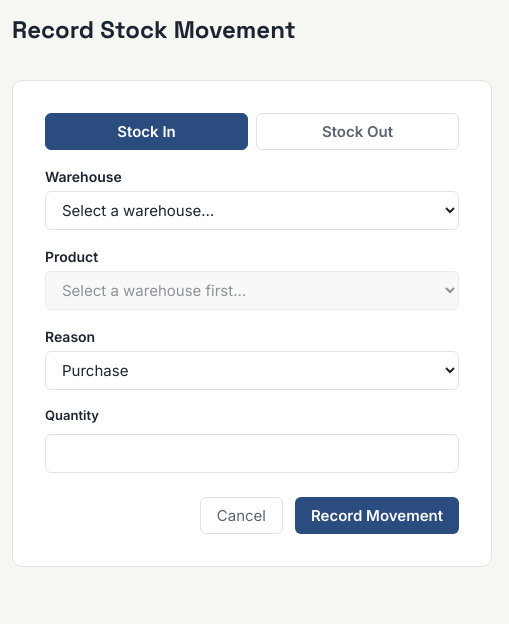
Test case: TransactionForm › shows the current stock hint once a product is selected
Expected: the heading "Record Stock Movement" is shown, [12,14,296,45]
Select "Main Warehouse" in the dropdown labelled "Warehouse" at point(252, 210), box [45,191,459,230]
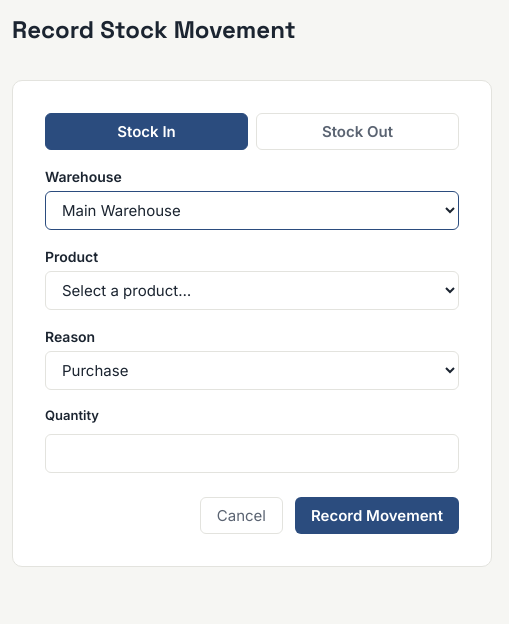
Select "Wireless Mouse (WM-001) — 20 in stock" in the dropdown labelled "Product" at point(252, 290), box [45,271,459,310]
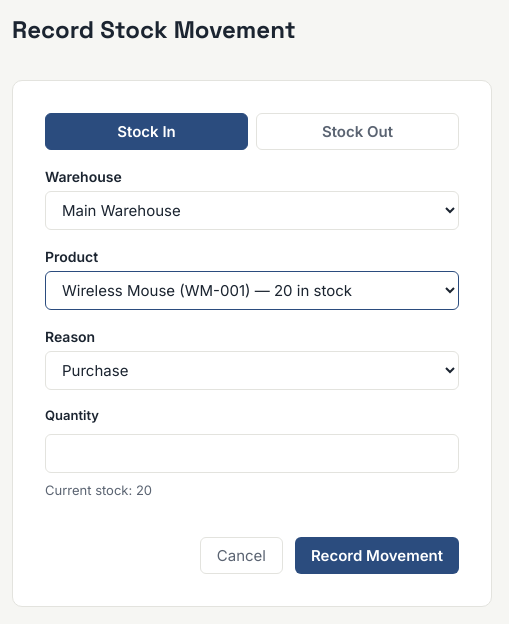
Expected: the text "Current stock: 20" is shown, [45,482,152,498]
